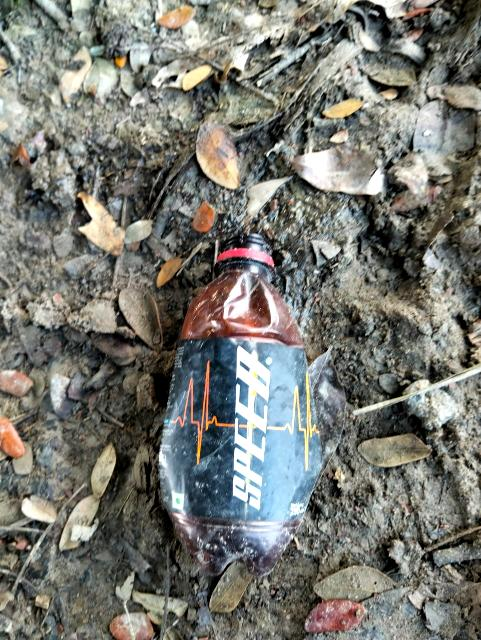bottle: (148, 236, 324, 594)
